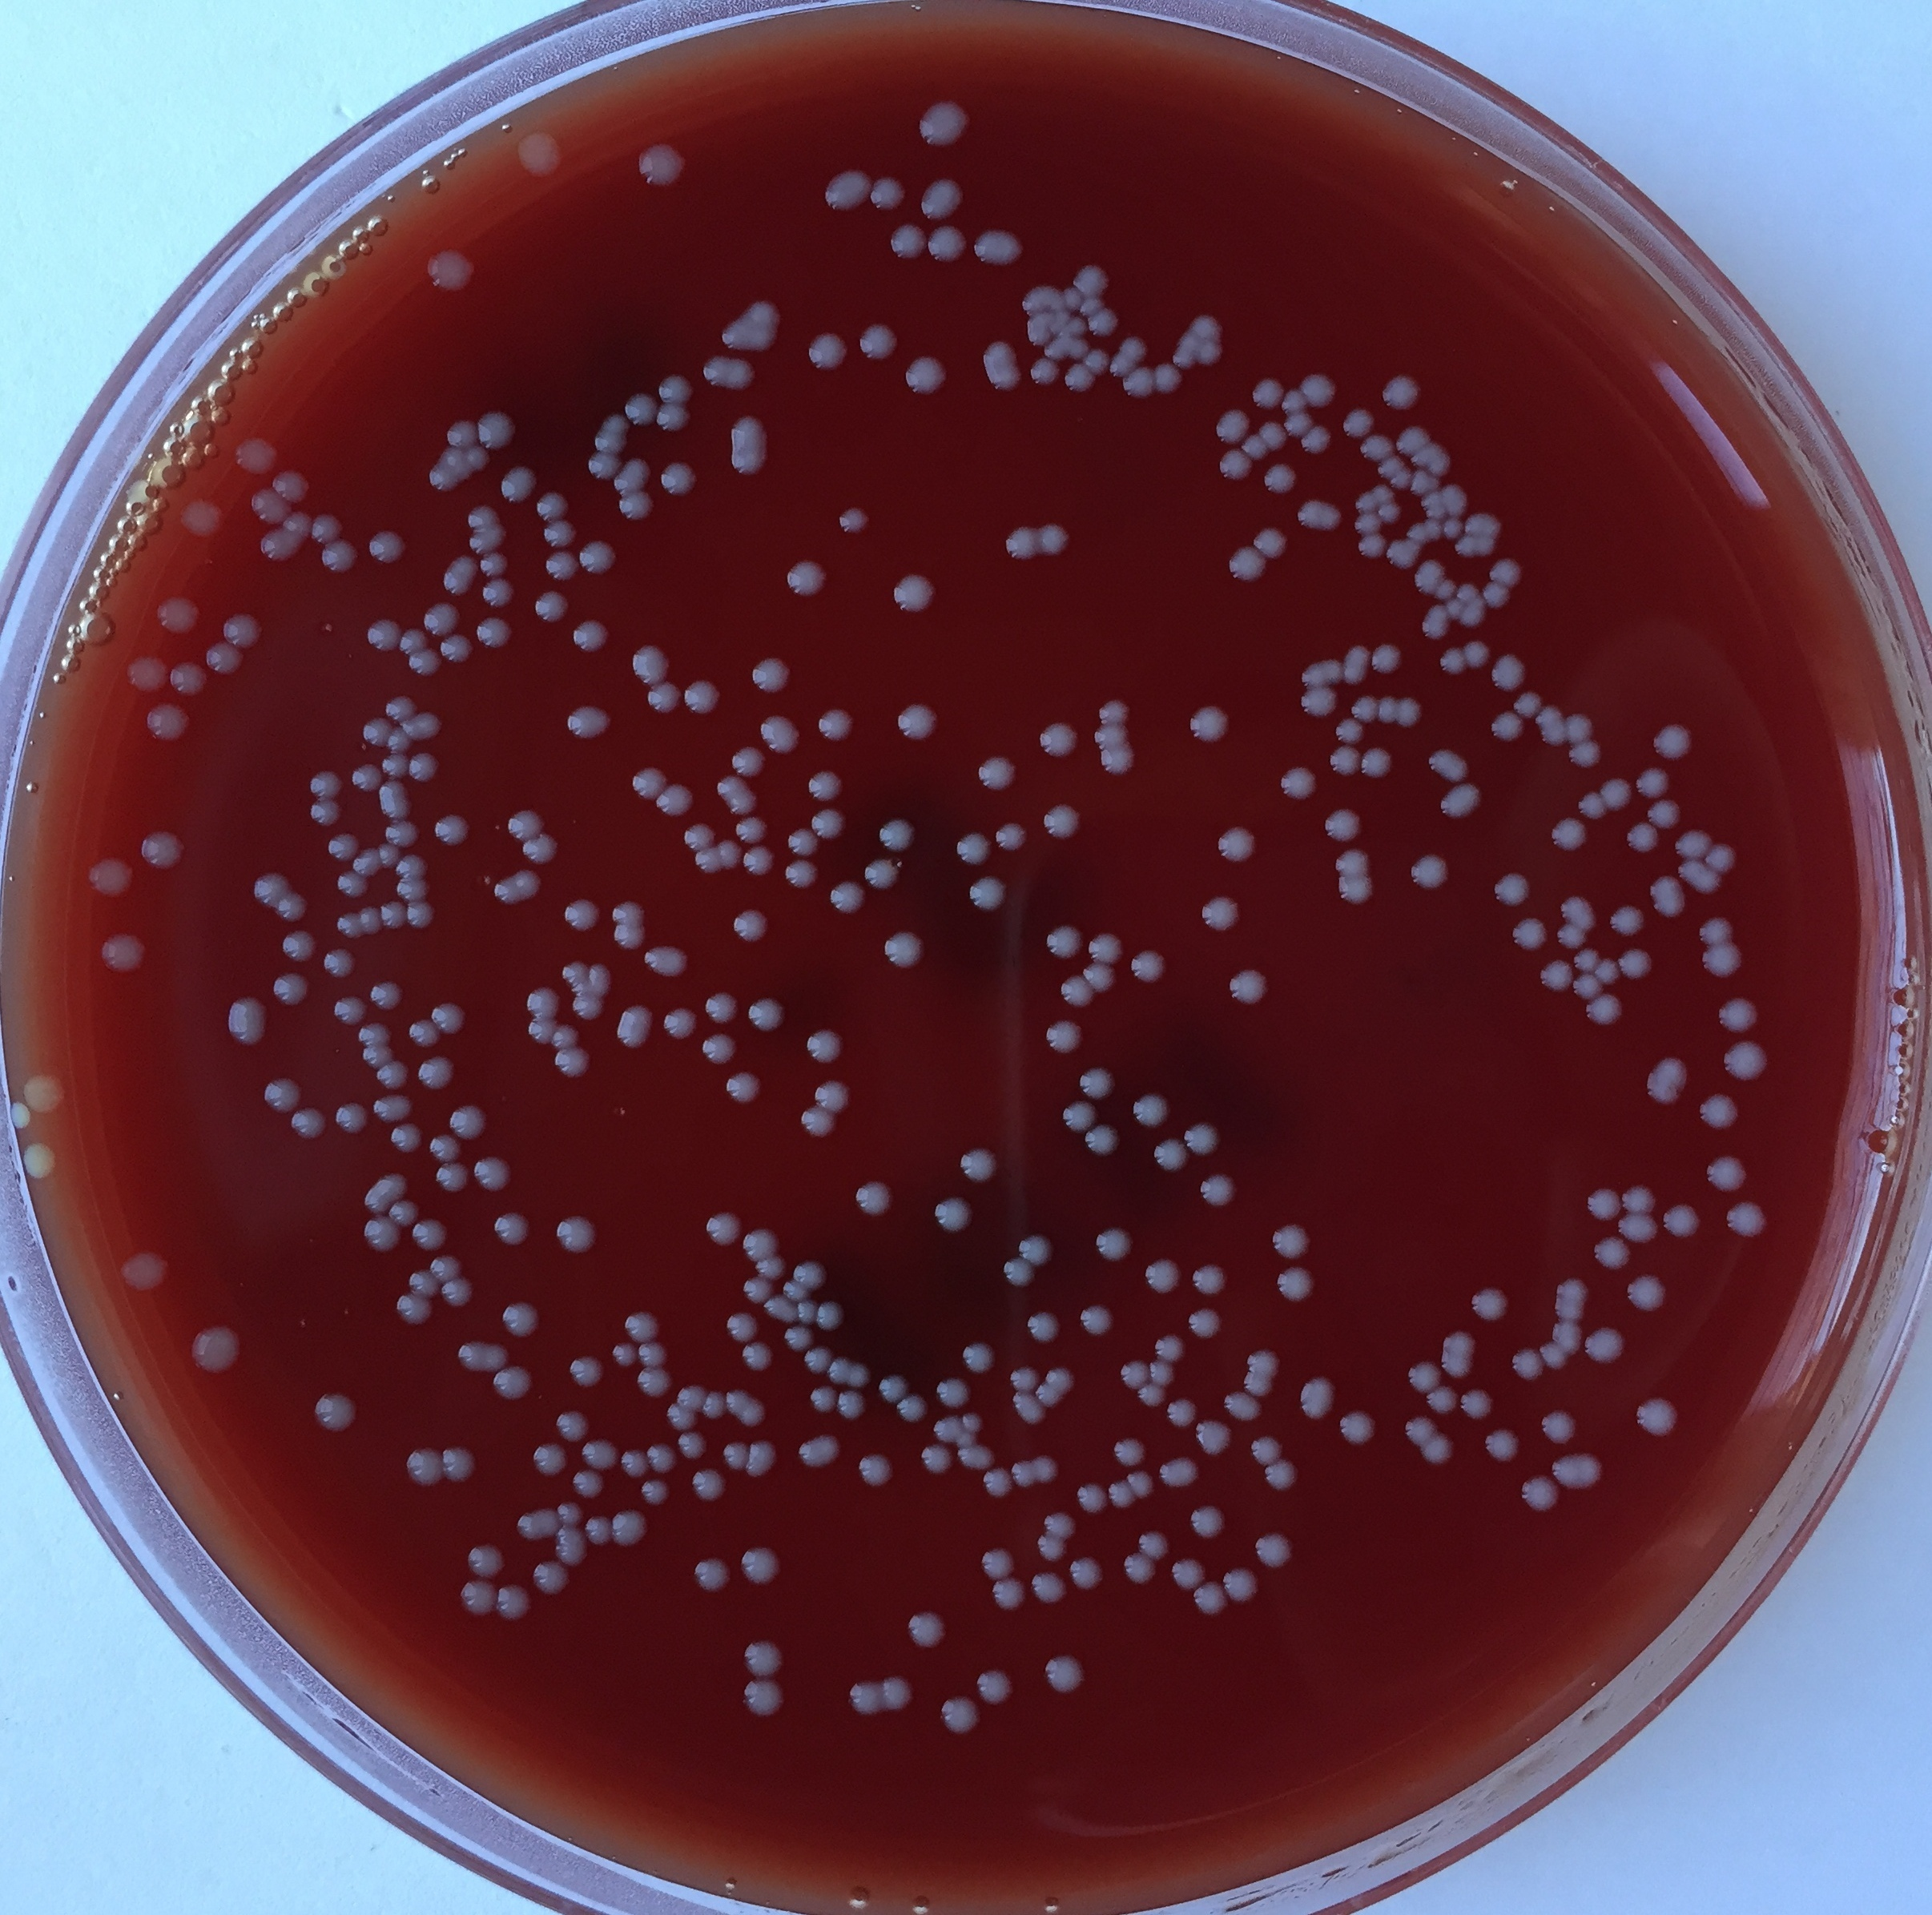sp22: (719, 298, 785, 360), (910, 96, 975, 147), (189, 1322, 245, 1375), (424, 246, 480, 296), (1643, 1054, 1694, 1108), (635, 140, 689, 189), (820, 168, 878, 214), (728, 414, 771, 473), (224, 994, 272, 1049), (980, 337, 1022, 396), (114, 1250, 174, 1292), (514, 130, 565, 179), (16, 1073, 70, 1119), (919, 177, 966, 228), (1552, 1450, 1604, 1494), (903, 352, 952, 398), (84, 858, 137, 900), (1625, 1271, 1673, 1317), (154, 593, 203, 637), (139, 829, 188, 873), (100, 931, 149, 975), (1722, 1200, 1772, 1242), (973, 230, 1026, 270), (1190, 1415, 1238, 1459), (1041, 1654, 1089, 1698), (1722, 1040, 1771, 1082), (882, 928, 931, 970), (177, 498, 228, 538), (314, 1391, 359, 1434), (759, 712, 803, 758), (857, 323, 903, 367), (1438, 782, 1485, 824), (217, 610, 266, 651), (894, 701, 943, 742), (742, 1675, 785, 1719), (938, 1692, 984, 1734), (1648, 875, 1690, 921), (1650, 721, 1695, 763), (1227, 965, 1273, 1007), (614, 1005, 656, 1050), (784, 558, 829, 600), (233, 437, 279, 479), (21, 1138, 63, 1184), (146, 701, 193, 742), (473, 414, 521, 454), (440, 552, 480, 600), (1297, 500, 1346, 538), (906, 1610, 948, 1654), (1697, 1091, 1741, 1133), (1199, 893, 1243, 935), (1199, 1168, 1243, 1210), (806, 331, 850, 374), (1552, 1277, 1592, 1322), (124, 654, 170, 694), (689, 1554, 735, 1594), (1581, 1326, 1627, 1366), (1425, 745, 1471, 786), (1225, 545, 1271, 586), (1634, 1398, 1681, 1436), (1301, 1373, 1338, 1422), (556, 1214, 598, 1256), (740, 1545, 782, 1587), (1143, 1256, 1185, 1298), (437, 1443, 477, 1487), (933, 1194, 977, 1235), (1252, 1531, 1296, 1571), (1588, 1233, 1632, 1273), (1269, 1221, 1313, 1261), (1127, 947, 1171, 987), (631, 644, 671, 687), (643, 942, 689, 980), (892, 573, 938, 612), (167, 658, 209, 698), (501, 1299, 543, 1340), (405, 1445, 445, 1487), (459, 1578, 500, 1620), (799, 1431, 842, 1471), (1013, 1228, 1054, 1270), (1518, 1471, 1560, 1512), (1701, 942, 1743, 982), (1189, 705, 1231, 745), (750, 656, 792, 696), (927, 223, 968, 265), (950, 1440, 1001, 1473), (473, 1156, 517, 1194), (465, 1541, 508, 1580), (529, 1559, 573, 1598), (1704, 1156, 1748, 1194), (1406, 854, 1450, 893), (975, 756, 1019, 794), (657, 461, 701, 500), (489, 1364, 535, 1401), (566, 703, 612, 740), (496, 468, 542, 505), (575, 538, 621, 575), (610, 1508, 650, 1548), (1559, 893, 1599, 933), (656, 782, 696, 822), (728, 742, 768, 782), (1040, 721, 1080, 761), (1380, 372, 1420, 412), (363, 1173, 405, 1212), (365, 616, 403, 658), (251, 870, 293, 908), (366, 975, 408, 1014), (263, 1075, 305, 1114), (493, 1582, 535, 1620), (975, 1666, 1013, 1708), (740, 1638, 782, 1677), (1469, 1285, 1511, 1324), (1718, 996, 1760, 1035), (1217, 824, 1259, 863), (1129, 1091, 1171, 1129), (1082, 1121, 1124, 1159), (733, 907, 775, 945), (393, 1292, 437, 1329), (798, 1107, 842, 1143), (1220, 1389, 1266, 1424), (363, 1214, 401, 1254), (568, 1354, 607, 1394), (857, 1450, 898, 1489), (1094, 1224, 1134, 1263), (1064, 1555, 1105, 1594), (1190, 1578, 1229, 1619), (1418, 1429, 1457, 1470), (1276, 1266, 1317, 1305), (1494, 870, 1532, 910), (1548, 815, 1588, 854), (1322, 805, 1362, 844), (1487, 651, 1525, 691), (1041, 803, 1082, 842), (805, 1028, 845, 1066), (827, 879, 868, 917), (1010, 1391, 1050, 1429), (517, 1508, 559, 1545), (745, 1436, 782, 1478), (1026, 1570, 1068, 1606), (1616, 1184, 1659, 1221), (251, 491, 293, 528), (614, 454, 652, 493), (421, 602, 459, 640), (333, 1100, 372, 1138), (417, 1052, 456, 1091), (854, 1178, 892, 1217), (961, 1147, 999, 1185), (1220, 1564, 1259, 1603), (815, 1079, 854, 1117), (561, 896, 600, 935), (629, 765, 668, 803), (1297, 421, 1336, 459), (870, 175, 908, 214), (259, 528, 298, 566), (203, 640, 244, 677), (691, 1468, 731, 1505), (915, 1442, 955, 1478), (989, 1575, 1029, 1612), (1280, 766, 1320, 803), (1043, 924, 1083, 961), (968, 875, 1008, 912), (1045, 1017, 1085, 1054), (724, 1068, 764, 1105), (682, 679, 722, 715), (887, 226, 927, 263), (1069, 263, 1110, 300), (321, 538, 358, 579), (288, 1107, 330, 1142), (445, 1105, 487, 1140), (533, 1438, 568, 1480), (579, 1438, 621, 1473), (1480, 1427, 1522, 1463), (747, 994, 789, 1029), (700, 1031, 742, 1066), (1252, 528, 1294, 563), (370, 1091, 416, 1122), (493, 1208, 529, 1247), (934, 1373, 971, 1412), (961, 1338, 998, 1377), (1024, 1308, 1062, 1345), (847, 1678, 884, 1717), (1608, 903, 1646, 940), (1152, 1136, 1190, 1173), (806, 768, 845, 805), (1213, 407, 1252, 444), (1299, 372, 1338, 409), (622, 393, 661, 430), (542, 549, 580, 586), (1120, 1552, 1161, 1587), (875, 1677, 915, 1712), (1538, 1410, 1578, 1445), (1660, 1205, 1701, 1240), (1585, 993, 1625, 1028), (1061, 1098, 1101, 1133), (552, 1045, 593, 1080), (863, 856, 903, 891), (643, 680, 684, 715), (1341, 403, 1376, 444), (368, 530, 408, 565), (1157, 1456, 1199, 1489), (806, 808, 849, 842), (519, 833, 563, 865), (475, 614, 512, 651), (281, 926, 317, 963), (272, 970, 309, 1007), (1075, 1480, 1112, 1517), (1264, 1456, 1301, 1492), (1189, 1503, 1225, 1540), (1338, 1410, 1374, 1447), (1406, 1359, 1443, 1396), (1185, 1119, 1222, 1156), (1262, 461, 1299, 498), (1394, 421, 1431, 458), (533, 489, 570, 526), (433, 812, 472, 847), (430, 1001, 468, 1036), (454, 1336, 489, 1375), (875, 1368, 910, 1406), (1190, 1263, 1229, 1298), (1511, 917, 1550, 952), (1673, 826, 1711, 861), (782, 856, 820, 891), (572, 617, 610, 652), (1417, 603, 1452, 642), (1122, 365, 1157, 403), (740, 1226, 780, 1259), (817, 707, 857, 740), (1616, 1212, 1659, 1243), (654, 400, 696, 431), (354, 1017, 398, 1047), (533, 589, 570, 624), (331, 993, 368, 1028), (437, 1159, 472, 1196), (724, 1310, 761, 1345), (556, 1406, 591, 1443), (1078, 1303, 1115, 1338), (978, 1545, 1015, 1580), (1247, 1433, 1282, 1470), (1171, 1555, 1206, 1592), (1511, 1345, 1546, 1382), (1585, 1187, 1622, 1222), (1539, 956, 1574, 993), (1616, 945, 1653, 980), (1059, 973, 1096, 1008), (1078, 1064, 1115, 1100), (703, 991, 740, 1026), (735, 814, 771, 849), (1217, 447, 1254, 482), (1488, 554, 1524, 591), (379, 780, 412, 819), (307, 794, 345, 828), (393, 873, 431, 907), (372, 1059, 410, 1093), (389, 1122, 428, 1156), (622, 1308, 661, 1342), (703, 1212, 742, 1245), (791, 1257, 829, 1291), (1036, 521, 1069, 559), (728, 356, 761, 395), (584, 452, 629, 481), (405, 645, 445, 677), (480, 577, 521, 609), (1299, 687, 1339, 719), (1097, 745, 1138, 777), (656, 374, 696, 405), (1020, 282, 1062, 312), (675, 1427, 710, 1463), (1124, 1468, 1159, 1503), (1459, 1387, 1494, 1422), (1704, 840, 1739, 875), (1634, 766, 1669, 801), (661, 1005, 696, 1040), (1005, 524, 1040, 559), (324, 831, 361, 865), (412, 1219, 449, 1252), (1644, 800, 1681, 833), (1597, 777, 1634, 810), (1490, 710, 1527, 744), (955, 831, 992, 865), (1250, 375, 1287, 409), (540, 517, 577, 551), (307, 512, 344, 545), (570, 1470, 608, 1501), (1031, 1534, 1069, 1566), (608, 898, 647, 929), (835, 505, 873, 537), (272, 468, 310, 500), (405, 710, 445, 740), (382, 821, 424, 849), (438, 447, 473, 481), (440, 631, 475, 665), (321, 945, 356, 979), (438, 1277, 473, 1310), (742, 1340, 777, 1373), (799, 1343, 835, 1377), (742, 1271, 777, 1305), (1001, 1254, 1036, 1287), (1187, 1305, 1222, 1338), (982, 1466, 1015, 1501), (1164, 1394, 1197, 1429), (1336, 845, 1371, 879), (1360, 747, 1394, 782), (1082, 961, 1117, 994), (526, 986, 561, 1019), (682, 821, 717, 854), (1359, 430, 1394, 463), (508, 807, 545, 838), (642, 1443, 678, 1475), (780, 1322, 817, 1354), (1040, 1510, 1076, 1541), (1134, 1527, 1171, 1559), (1087, 933, 1124, 965), (1152, 361, 1183, 398), (468, 524, 508, 552), (1403, 1413, 1436, 1447), (1369, 642, 1403, 675), (1564, 712, 1597, 745), (878, 817, 912, 851), (742, 844, 775, 877), (1062, 361, 1096, 395), (351, 761, 386, 793), (309, 768, 344, 800), (275, 891, 310, 922), (391, 852, 433, 879), (349, 847, 384, 879), (428, 1254, 463, 1285), (719, 1438, 750, 1473), (763, 1294, 798, 1326), (1045, 1363, 1076, 1398), (1112, 1436, 1147, 1468), (1105, 1480, 1140, 1512), (1427, 1382, 1459, 1417), (1697, 914, 1732, 945), (1511, 687, 1543, 723), (785, 826, 820, 858), (1338, 877, 1374, 907), (361, 712, 391, 749), (428, 1131, 465, 1161), (1154, 1333, 1190, 1363), (1083, 309, 1120, 338), (896, 1396, 934, 1424), (1550, 1322, 1583, 1354), (408, 749, 440, 782), (1008, 1363, 1041, 1394), (1625, 821, 1657, 854), (1329, 744, 1360, 777), (1567, 737, 1601, 768), (714, 836, 745, 870), (1387, 538, 1418, 572), (445, 419, 479, 451), (335, 870, 370, 900), (403, 900, 438, 929), (489, 877, 524, 907), (510, 870, 545, 900), (817, 1298, 847, 1333), (1134, 1382, 1169, 1412), (1031, 1452, 1061, 1487), (1394, 696, 1424, 731), (1481, 579, 1511, 614), (701, 354, 731, 389), (466, 505, 501, 535), (384, 694, 421, 723), (1439, 1329, 1476, 1357), (1569, 972, 1606, 1000), (992, 822, 1029, 851), (1094, 721, 1131, 749), (615, 495, 657, 519), (1464, 510, 1502, 537), (640, 1366, 671, 1398), (836, 1389, 868, 1420), (1120, 1357, 1152, 1389), (1460, 638, 1492, 670), (614, 919, 645, 950), (1259, 419, 1290, 451), (619, 1447, 649, 1480), (808, 1382, 838, 1415), (754, 1254, 787, 1284), (1357, 531, 1390, 561), (1027, 360, 1061, 389), (1189, 314, 1224, 342), (335, 908, 363, 943), (407, 1019, 442, 1047), (1438, 645, 1466, 680), (549, 1021, 584, 1049), (570, 994, 605, 1022), (1096, 696, 1131, 724), (5, 1100, 33, 1135), (1345, 645, 1369, 684), (396, 626, 428, 656), (377, 900, 408, 929), (738, 1398, 768, 1429), (1576, 791, 1608, 821), (1334, 719, 1366, 749), (477, 552, 508, 582), (1541, 1342, 1569, 1375), (361, 1042, 394, 1070), (640, 1478, 673, 1506), (700, 1387, 728, 1420), (635, 1340, 670, 1366), (1439, 1357, 1476, 1382), (1557, 921, 1587, 950), (428, 465, 459, 493), (354, 901, 382, 933), (407, 1270, 438, 1298), (663, 1403, 694, 1431), (1145, 1359, 1176, 1387), (526, 1015, 558, 1043), (1413, 559, 1439, 593), (554, 1543, 587, 1570), (380, 752, 414, 779), (480, 1340, 507, 1373), (1010, 1457, 1036, 1491), (1373, 696, 1399, 730), (593, 428, 628, 452), (933, 1413, 961, 1443), (389, 1198, 419, 1226), (586, 1515, 614, 1545), (677, 1384, 707, 1412), (1573, 945, 1602, 973), (1241, 435, 1271, 463), (1282, 388, 1310, 417), (724, 1385, 750, 1417), (1245, 1349, 1276, 1375), (693, 847, 724, 873), (1282, 412, 1313, 438), (1175, 333, 1197, 368), (827, 1352, 850, 1387), (1197, 342, 1225, 370), (556, 1499, 584, 1527), (1594, 959, 1622, 987), (1699, 870, 1725, 900), (1026, 316, 1052, 345), (587, 963, 614, 993), (1355, 509, 1385, 535), (1443, 484, 1467, 516), (780, 1277, 812, 1301), (728, 791, 761, 814), (375, 844, 403, 870), (612, 1340, 640, 1366), (845, 1361, 871, 1389), (1348, 694, 1374, 723), (1117, 337, 1145, 363), (1462, 598, 1487, 628), (1441, 514, 1464, 545), (468, 445, 493, 473), (961, 1406, 985, 1434), (556, 1522, 586, 1545), (1429, 454, 1457, 477), (1410, 470, 1439, 491), (1413, 442, 1443, 463), (1085, 349, 1110, 374), (1418, 493, 1445, 516), (1536, 705, 1562, 728), (1318, 658, 1343, 680), (1297, 661, 1320, 686), (1455, 535, 1476, 561), (601, 412, 629, 431), (563, 959, 586, 982), (1432, 580, 1457, 602), (1680, 863, 1704, 884), (1045, 338, 1066, 363), (717, 775, 743, 794), (1404, 521, 1425, 544), (1378, 456, 1401, 477), (1353, 491, 1376, 512), (1541, 728, 1564, 749), (1108, 356, 1129, 379), (1392, 468, 1411, 493), (1425, 517, 1441, 545), (1374, 484, 1396, 505), (1069, 338, 1089, 361), (796, 1299, 815, 1322), (1064, 286, 1082, 310), (391, 728, 408, 752), (1457, 584, 1478, 603), (1380, 505, 1403, 523), (1476, 537, 1495, 556), (1082, 298, 1105, 314), (1448, 602, 1464, 623), (1054, 314, 1069, 335), (1069, 317, 1087, 335)
